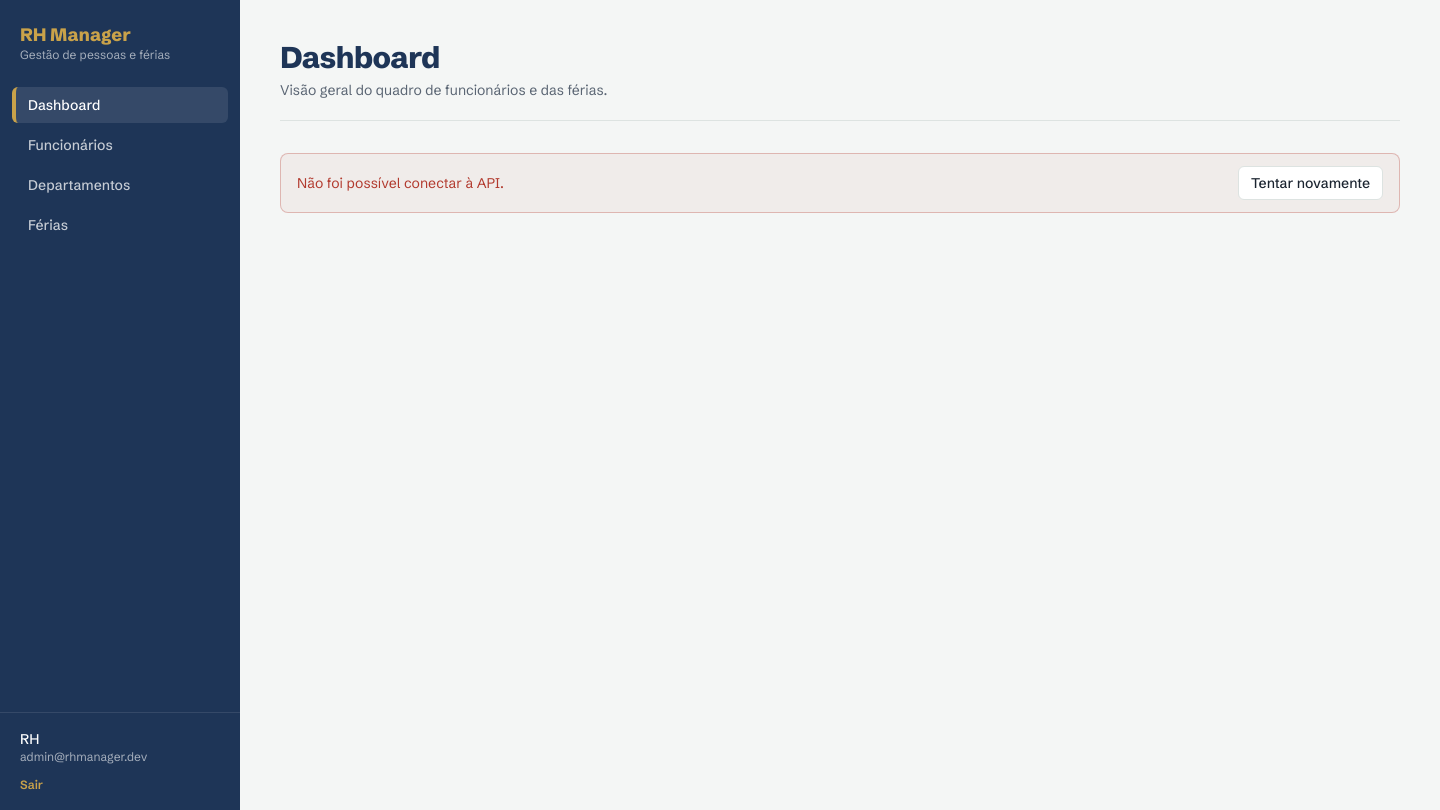
Test: ProtectedRoute › clears the session and returns to login on sign out
What coordinates should you click on to do the following:
click the button "Sair"
I would click on:
 (32, 785)
Its box is [20, 777, 43, 793].
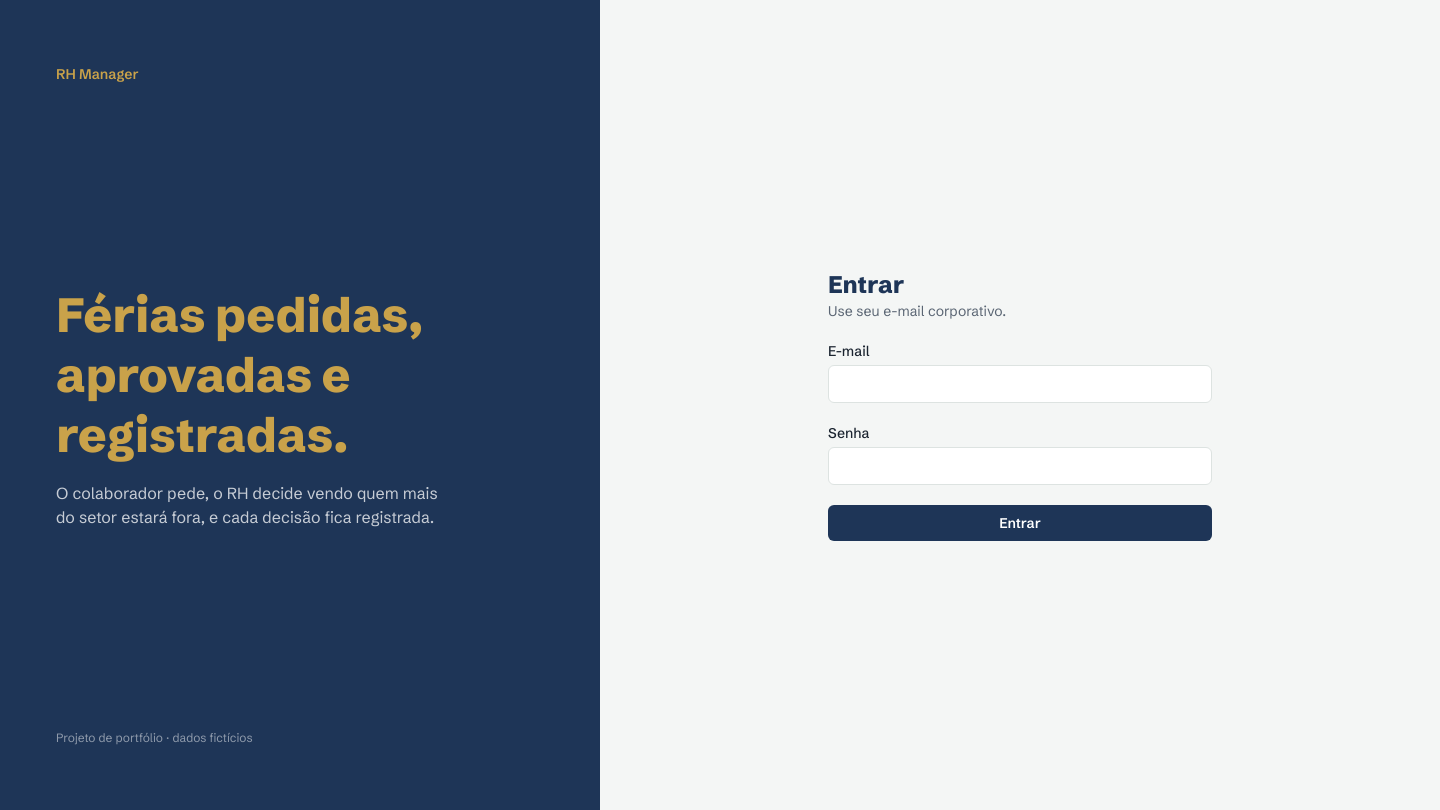
Result: the button "Entrar" is shown at [828, 505, 1212, 541]
